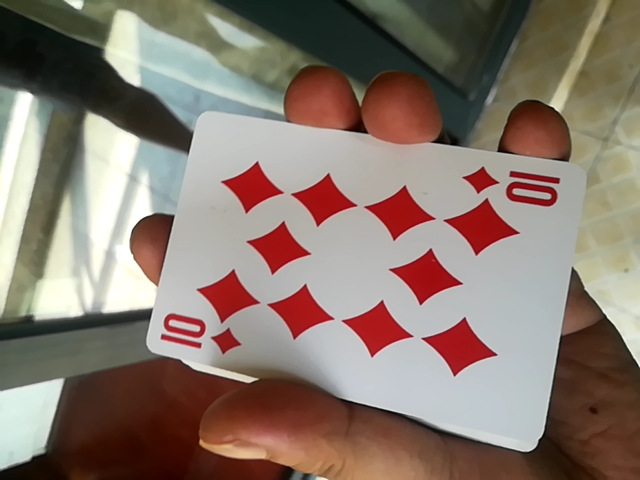fk 10: (105, 94, 585, 462)
